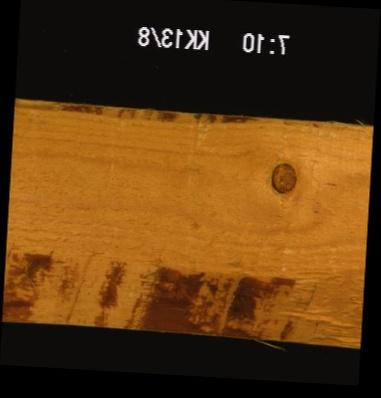wave: (3, 243, 362, 332), (13, 104, 250, 126)
